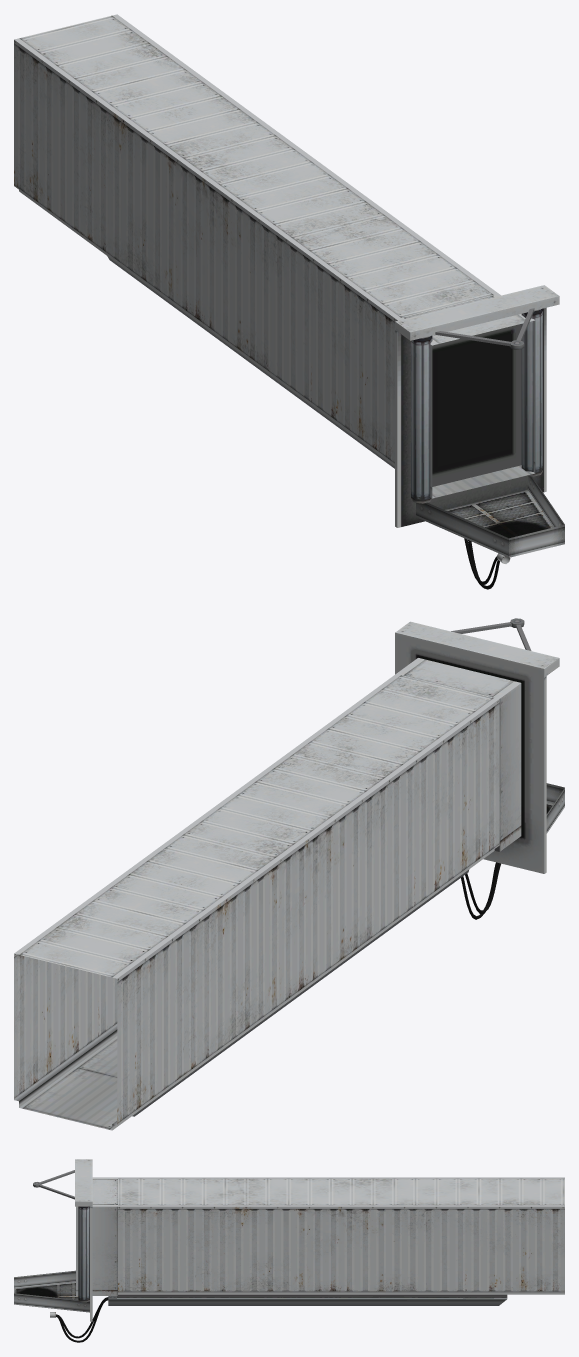
File: jw_tunnel_2_7a.gltf
3 renders of one model, top to bottom at view 1: azimuth 30°, elevation 25°; view 2: azimuth 150°, elevation 25°; view 3: azimuth 270°, elevation 25°, orthographic. The views are drawn at different scales.
Visible parts, largest first — view 1: jw_tunnel_2_7a; view 2: jw_tunnel_2_7a; view 3: jw_tunnel_2_7a.
Part boxes in pixels (x1=…): jw_tunnel_2_7a: x1=14, y1=14, x2=564, y2=589; jw_tunnel_2_7a: x1=14, y1=618, x2=564, y2=1130; jw_tunnel_2_7a: x1=14, y1=1159, x2=564, y2=1342.
Bounding box in the file's own units: 2.4 × 4.25 × 13.12.
2 materials, 2 textured.
